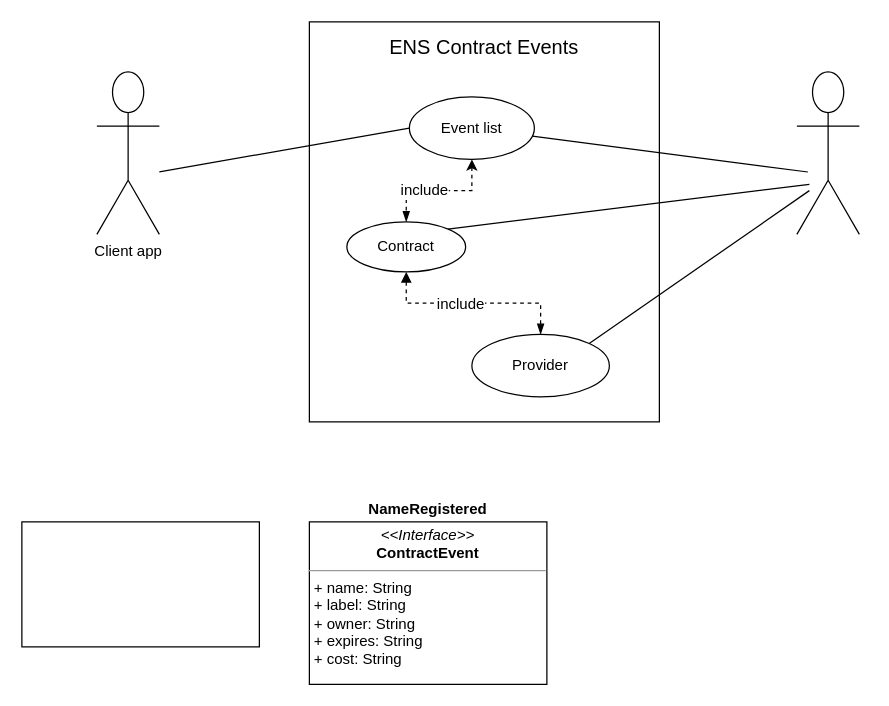
This 889x706 diagram has some shape labels left out. The centre of each missing label's shape, as x and y in pixels:
<<Interface>> EnsContract + contractName: String + networks: List + abi: List: the point at 140,584
Eth network: the point at 827,152
